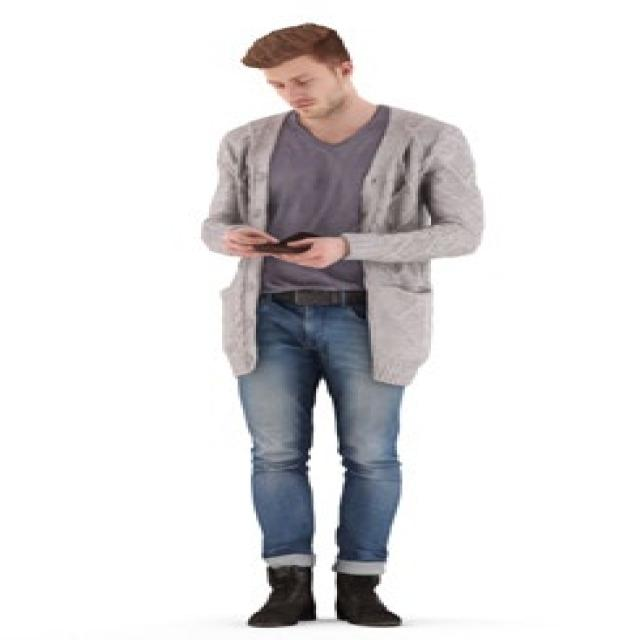standing: (195, 21, 490, 629)
